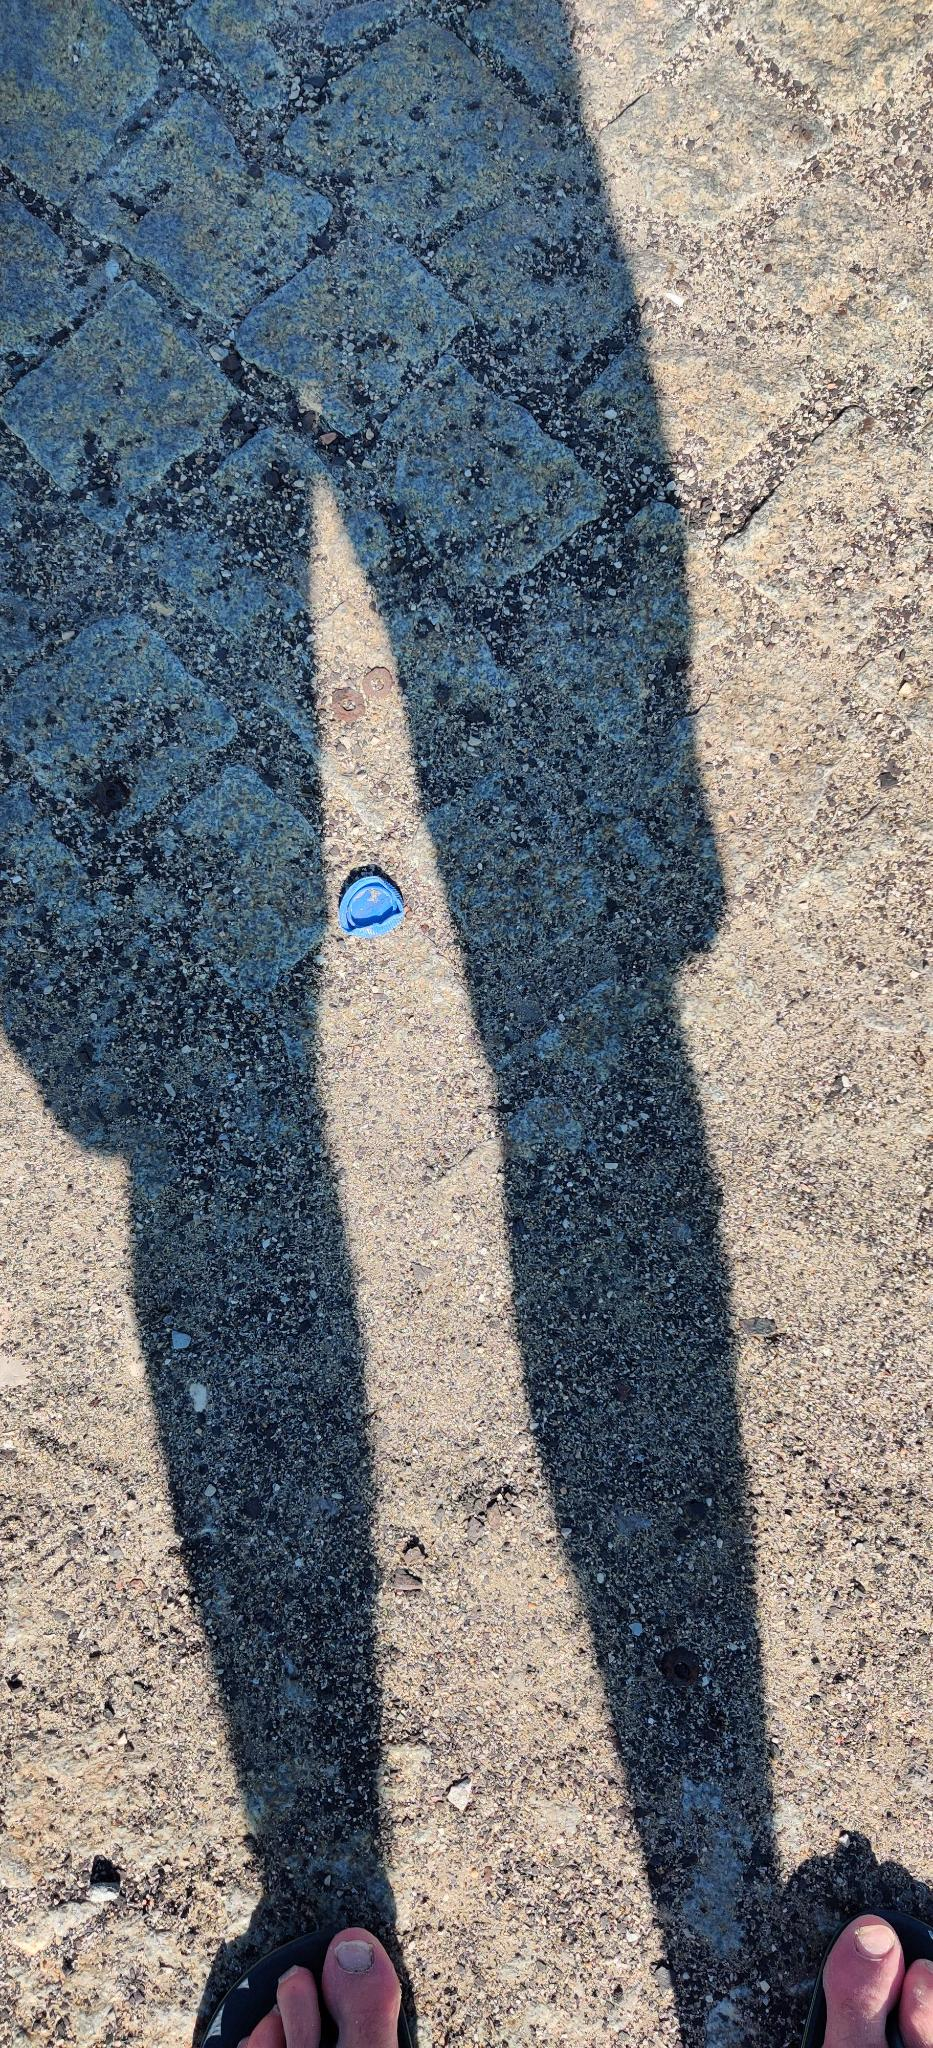Plastic: (332, 869, 409, 943)
